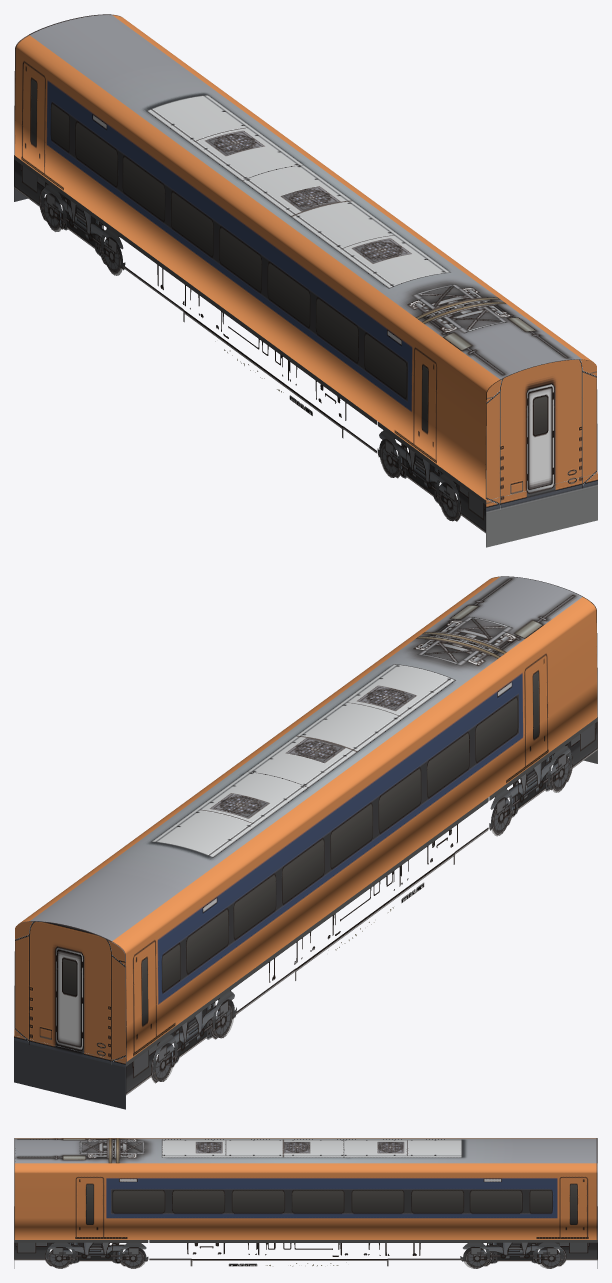
Rendered from car2.glb.
3 views of the same model, one above another, from view 1: azimuth 30°, elevation 25°; view 2: azimuth 150°, elevation 25°; view 3: azimuth 270°, elevation 25° (orthographic). The views are drawn at different scales.
Visible parts, largest first — view 1: kintetsu-22600-car2; view 2: kintetsu-22600-car2; view 3: kintetsu-22600-car2.
Part boxes in pixels (<box>): kintetsu-22600-car2: <box>14,14,597,547</box>; kintetsu-22600-car2: <box>14,576,597,1109</box>; kintetsu-22600-car2: <box>14,1138,597,1268</box>.
Bounding box in the file's own units: 2.8 × 4.05 × 20.53.
Materials: 9 (8 with a texture image).
